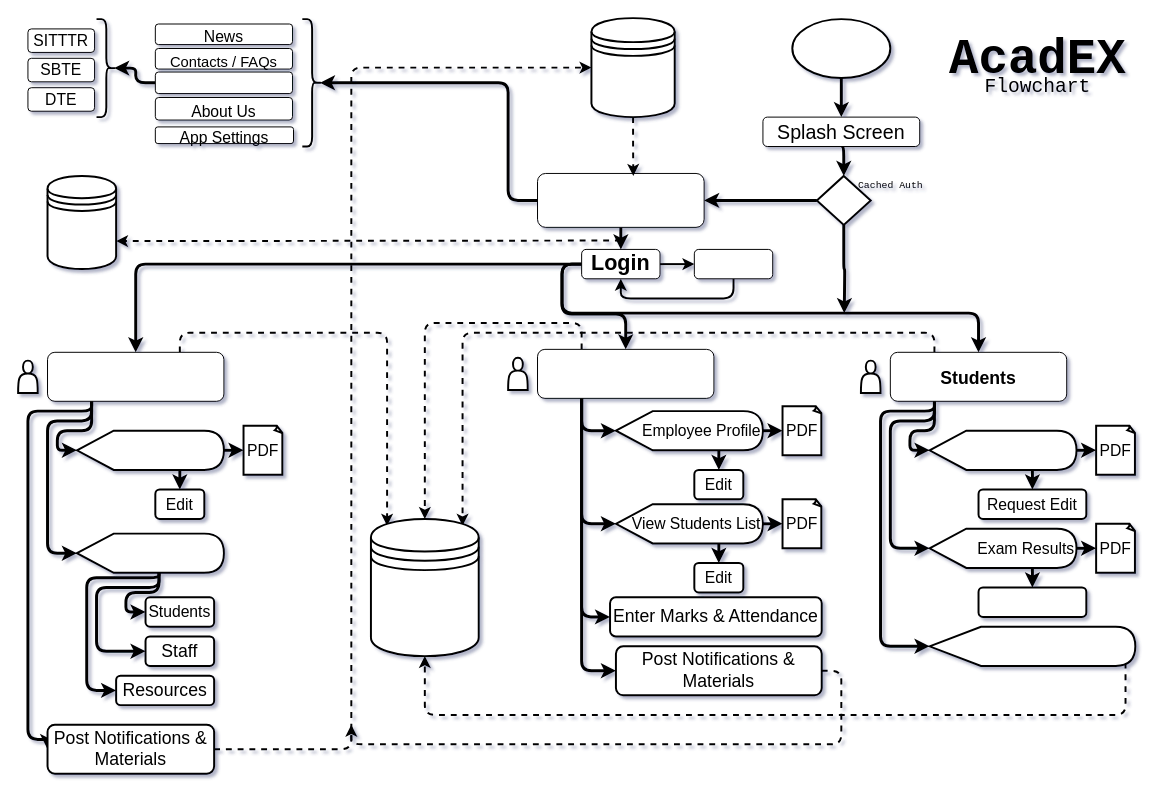
This 1166x797 diagram has some shape labels left out. Each missing label, with the centre of its shape:
"Academic Details" belongs at pixel 149 552.
"Administrators" belongs at pixel 135 376.
"Auth Server" belongs at pixel 81 222.
"External Links" belongs at pixel 223 82.
"Homepage" belongs at pixel 620 199.
"Institution Profile" belongs at pixel 149 449.
"Main DB" belongs at pixel 424 587.
"Notification Server" belongs at pixel 632 67.
"Raise Dispute" belongs at pixel 1032 601.
"Signup" belongs at pixel 733 263.
"Start" belongs at pixel 841 48.
"Student Profile" belongs at pixel 1002 449.
"Syllabus & Study Materials" belongs at pixel 1032 645.
"Tutors" belongs at pixel 625 373.
